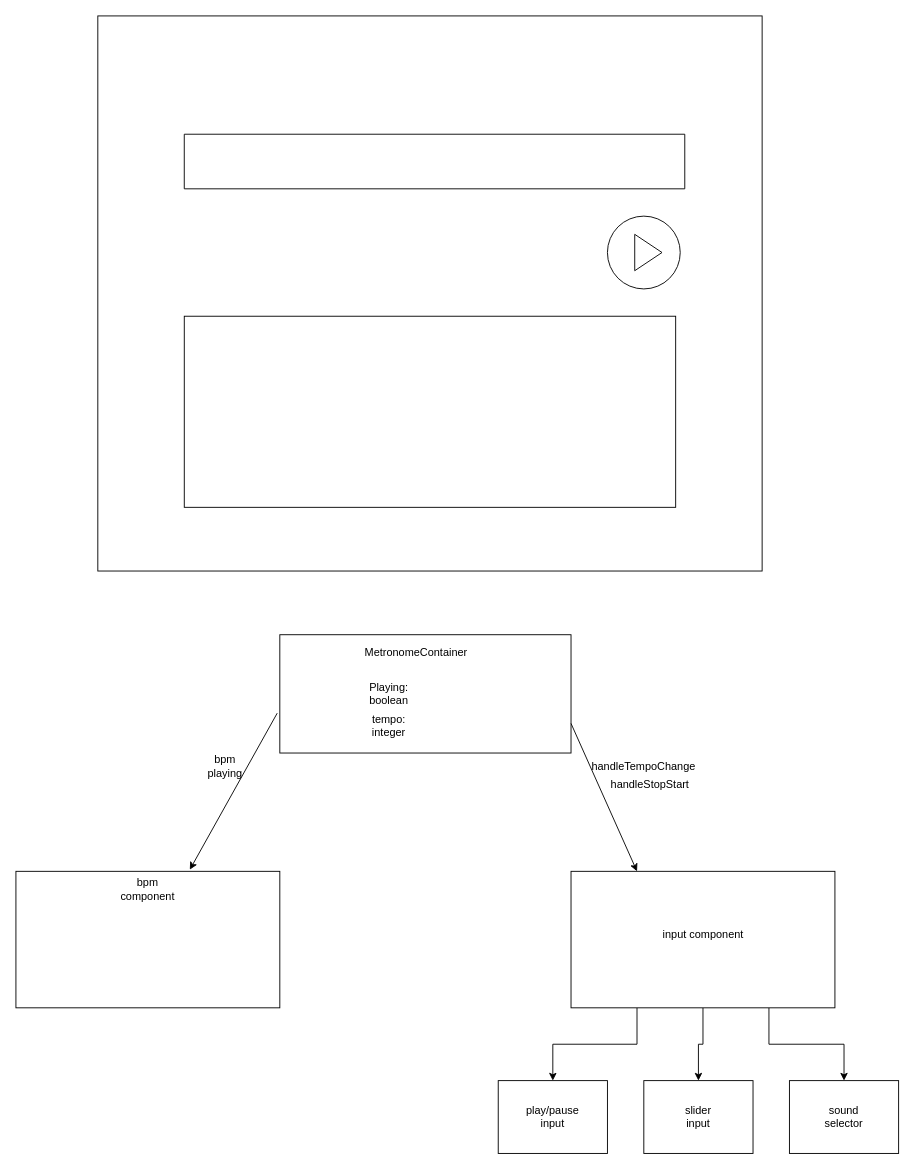
The diagram is 915 pixels wide and 1169 high, and some of its shapes have lost their labels. The centre of each missing label's shape, as x and y in pixels:
"Slider div" goes at point (434, 161).
"Visual represententation" goes at point (429, 411).
